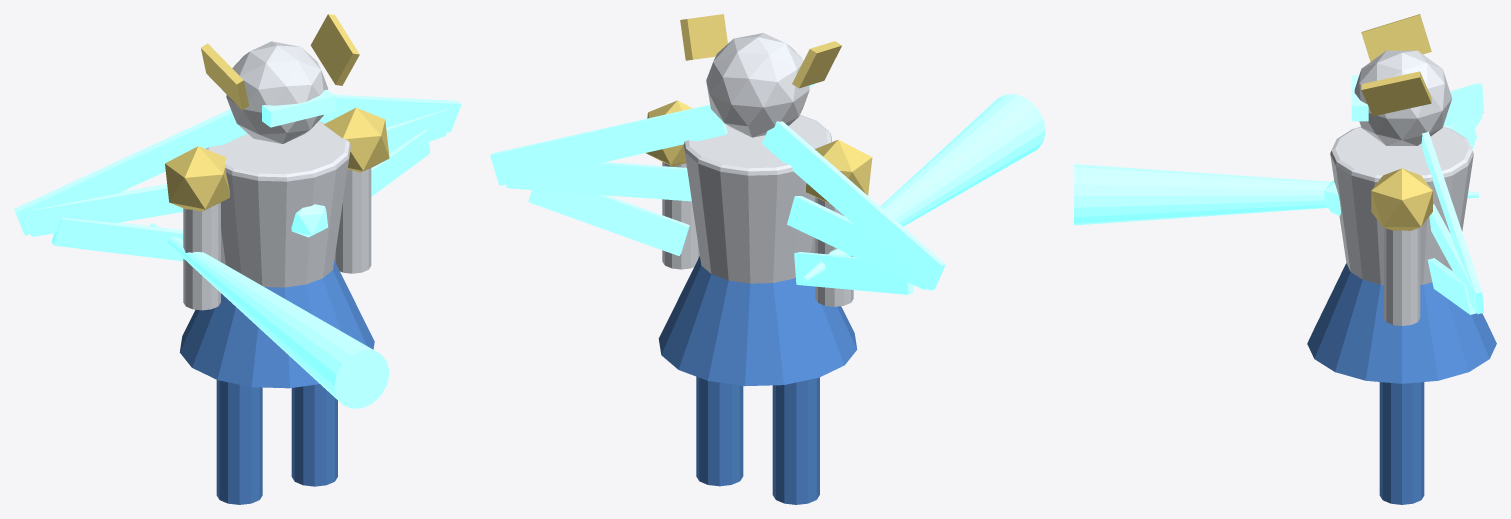
File: valkyrie_seraph.glb
The picture shows the model from 3 angles, left to right: view 1: azimuth 30°, elevation 25°; view 2: azimuth 150°, elevation 25°; view 3: azimuth 270°, elevation 25°; orthographic projection. The views are drawn at different scales.
Parts seen in each view (by area): view 1: Cone, Cone.001, Cone.002, Icosphere.001, Cube, Cylinder.003, Cylinder.002, Cube.001, Cube.002, Icosphere.003, Cylinder, Cylinder.001 (+8 smaller); view 2: Cone.001, Cone, Cone.002, Icosphere.001, Cube.003, Cube, Cylinder.003, Cylinder.002, Cube.004, Cube.005, Cube.001, Cube.002 (+6 smaller); view 3: Cone.001, Cone.002, Cone, Cylinder.002, Icosphere.001, Cylinder, Icosphere.002, Cube.008, Cube.003, Cube.007, Cube.005, Cube.004 (+2 smaller).
Boxes of the visible parts, x1=… form: Cone: x1=205, y1=121, x2=350, y2=287; Cone.001: x1=179, y1=260, x2=374, y2=388; Cone.002: x1=150, y1=223, x2=389, y2=408; Icosphere.001: x1=226, y1=41, x2=327, y2=143; Cube: x1=14, y1=109, x2=247, y2=235; Cylinder.003: x1=216, y1=380, x2=262, y2=504; Cylinder.002: x1=291, y1=384, x2=337, y2=486; Cube.001: x1=30, y1=184, x2=183, y2=236; Cube.002: x1=51, y1=218, x2=183, y2=261; Icosphere.003: x1=165, y1=146, x2=229, y2=211; Cylinder: x1=334, y1=168, x2=371, y2=273; Cylinder.001: x1=183, y1=202, x2=220, y2=310; Cone.001: x1=658, y1=256, x2=857, y2=386; Cone: x1=683, y1=115, x2=831, y2=283; Cone.002: x1=801, y1=94, x2=1045, y2=282; Icosphere.001: x1=706, y1=33, x2=809, y2=137; Cube.003: x1=490, y1=104, x2=727, y2=185; Cube: x1=762, y1=121, x2=945, y2=290; Cylinder.003: x1=772, y1=377, x2=819, y2=504; Cylinder.002: x1=696, y1=376, x2=743, y2=486; Cube.004: x1=506, y1=162, x2=691, y2=201; Cube.005: x1=528, y1=190, x2=689, y2=255; Cube.001: x1=787, y1=196, x2=927, y2=289; Cube.002: x1=794, y1=252, x2=913, y2=294; Cone.001: x1=1307, y1=263, x2=1496, y2=383; Cone.002: x1=1074, y1=164, x2=1478, y2=225; Cone: x1=1330, y1=127, x2=1473, y2=284; Cylinder.002: x1=1379, y1=382, x2=1424, y2=504; Icosphere.001: x1=1354, y1=50, x2=1452, y2=145; Cylinder: x1=1384, y1=227, x2=1420, y2=325; Icosphere.002: x1=1371, y1=168, x2=1432, y2=230; Cube.008: x1=1361, y1=71, x2=1431, y2=116; Cube.003: x1=1421, y1=131, x2=1483, y2=314; Cube.007: x1=1361, y1=14, x2=1431, y2=61; Cube.005: x1=1427, y1=258, x2=1476, y2=314; Cube.004: x1=1429, y1=204, x2=1476, y2=312.
Size of the model in its own units: 1.78 by 1.72 by 1.52.
